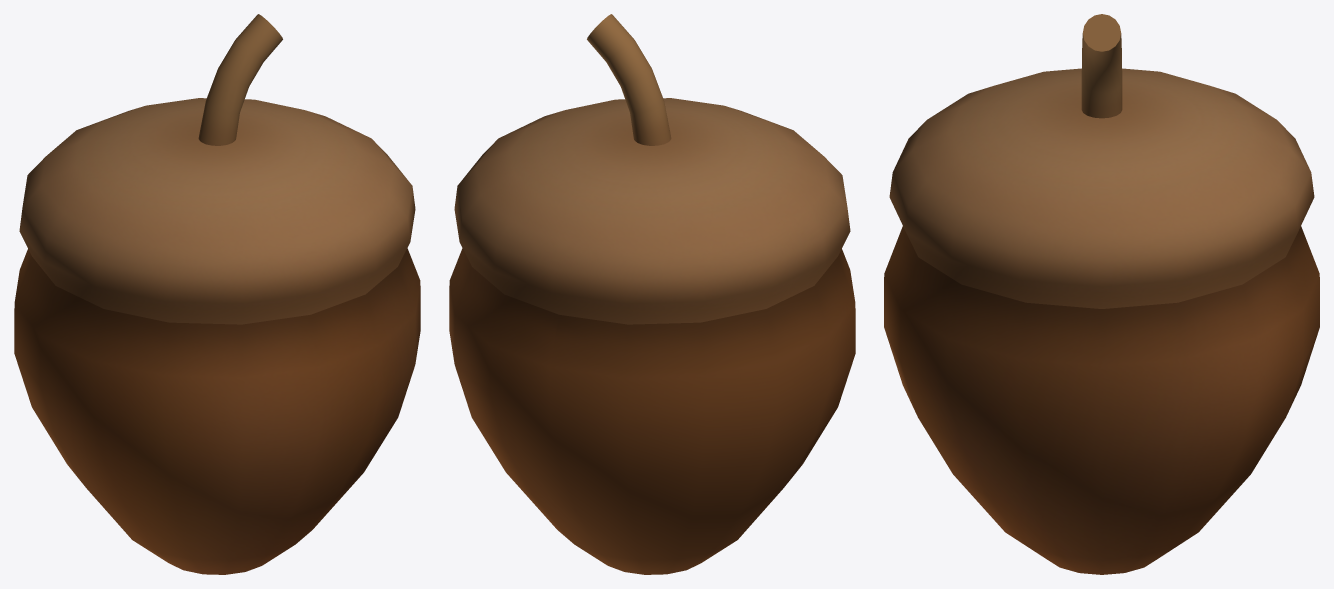
The model's file is acorn.FBX.
3 views of the same model, side by side, from view 1: azimuth 30°, elevation 25°; view 2: azimuth 150°, elevation 25°; view 3: azimuth 270°, elevation 25° (orthographic). The views are drawn at different scales.
Visible parts, largest first — view 1: acorn; view 2: acorn; view 3: acorn.
Part boxes in pixels (<box>): acorn: <box>14,14,420,574</box>; acorn: <box>449,14,855,574</box>; acorn: <box>884,14,1319,574</box>.
Bounding box in the file's own units: 26.21 × 38.64 × 26.21.
